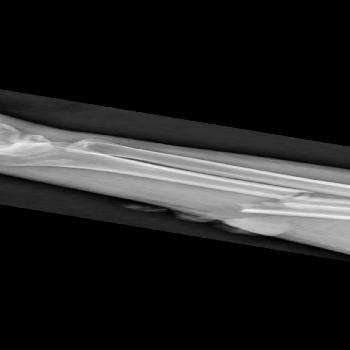Fracture: (235, 190, 316, 218)
